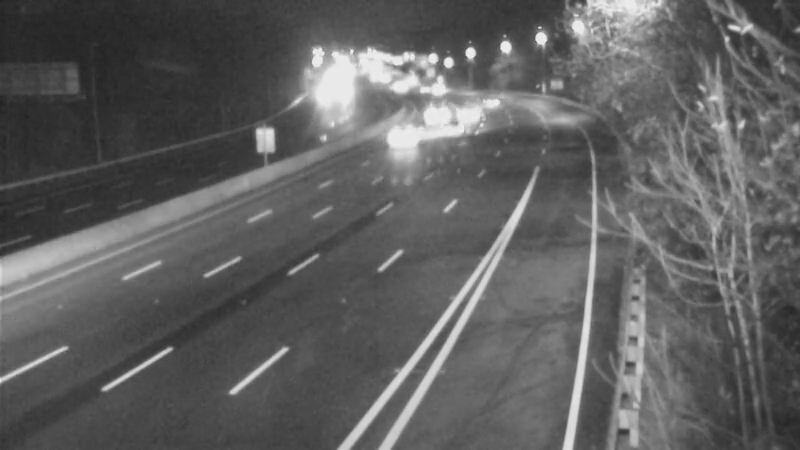vehicle: (472, 77, 522, 127), (444, 89, 494, 139), (410, 83, 460, 133), (426, 99, 476, 149), (376, 111, 426, 161)
